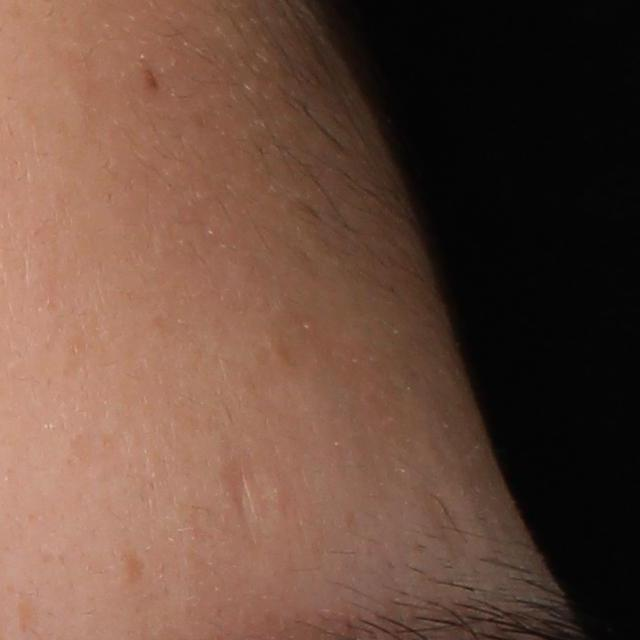atrophic_scar: (222, 453, 265, 550)
nevus: (142, 65, 159, 90)
